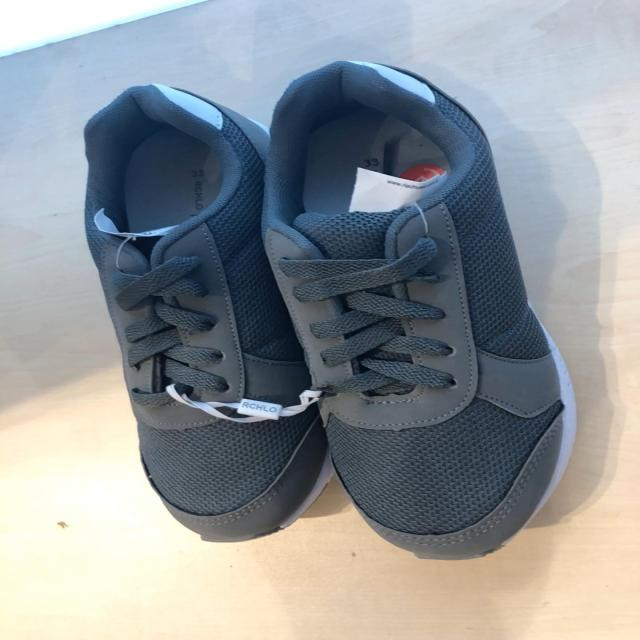shoe: (261, 61, 578, 563), (83, 84, 332, 545)
